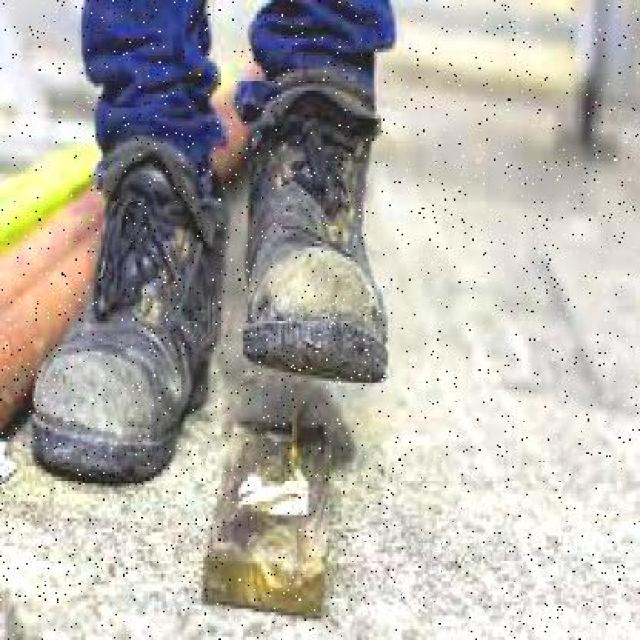shoes: (242, 84, 388, 393), (69, 154, 214, 463)
